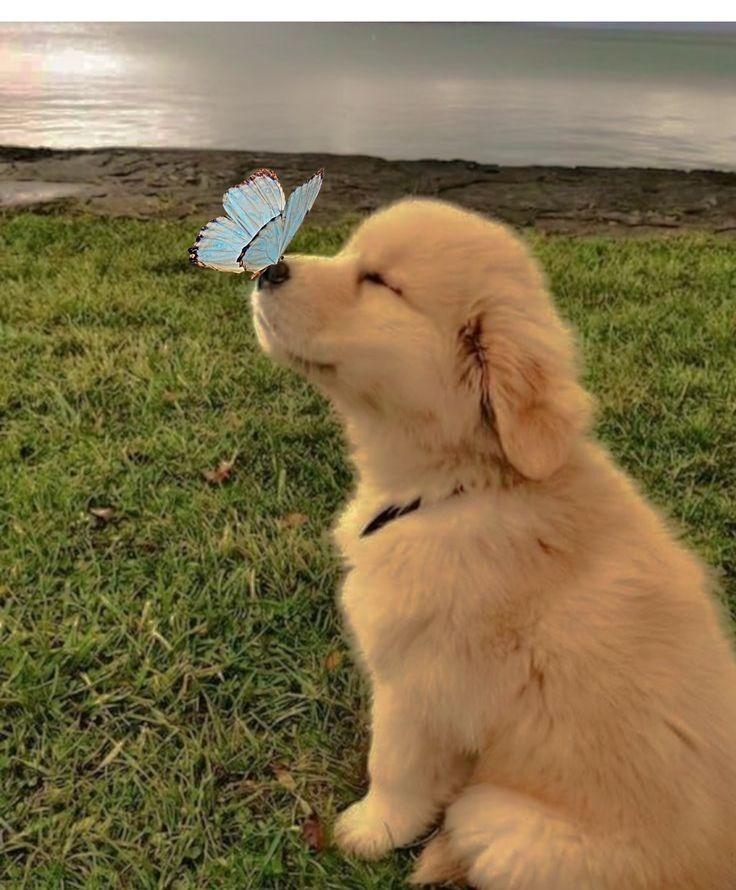puppy-dog: (247, 195, 736, 890)
